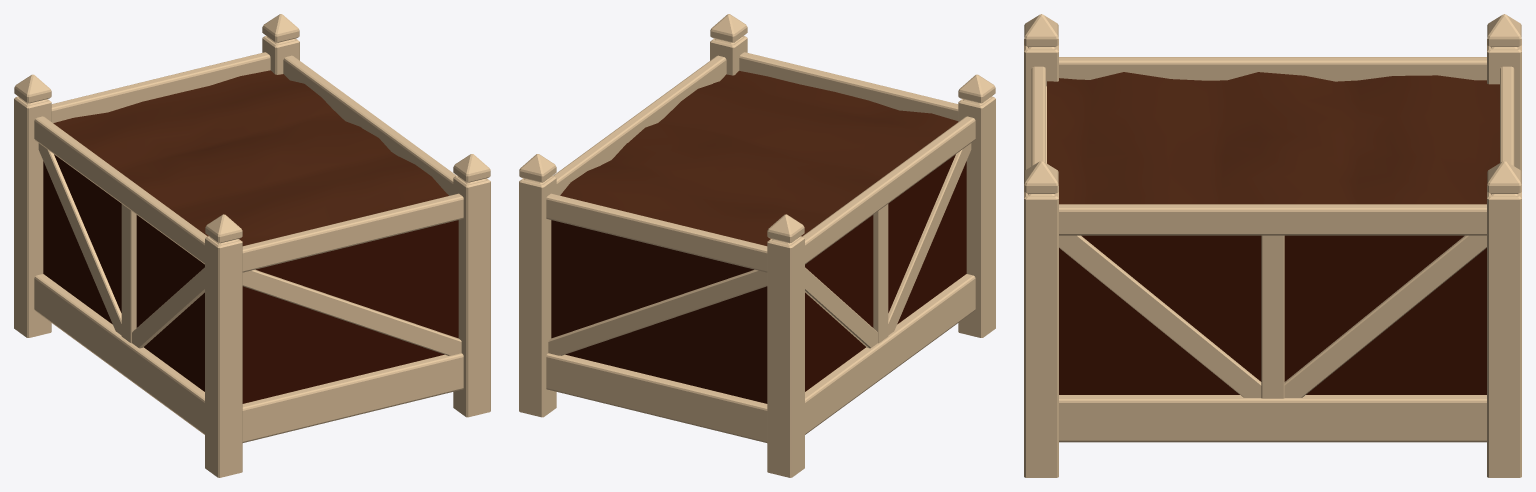
File: GardenBox00(1).fbx
3 renders of one model, left to right at view 1: azimuth 30°, elevation 25°; view 2: azimuth 150°, elevation 25°; view 3: azimuth 270°, elevation 25°, orthographic. The views are drawn at different scales.
Visible parts, largest first — view 1: GardenBox00; view 2: GardenBox00; view 3: GardenBox00.
Boxes of the visible parts, box(x1,y1,x2,y2) form: GardenBox00: box(14, 14, 490, 477); GardenBox00: box(519, 14, 995, 477); GardenBox00: box(1024, 14, 1521, 477).
Size of the model in its own units: 165 by 147 by 215.
